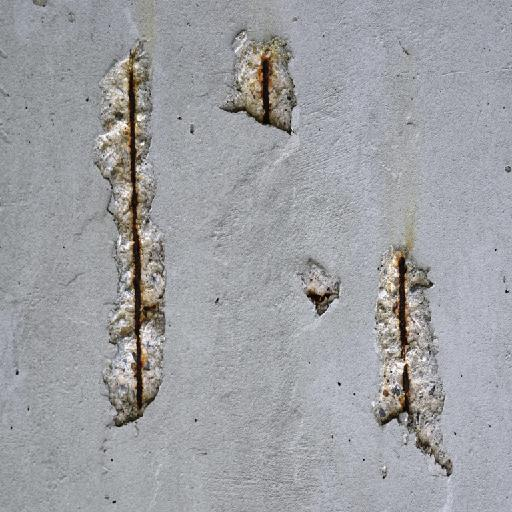exposed_rebar: (129, 52, 141, 410), (377, 363, 409, 424), (399, 258, 406, 359), (262, 58, 270, 124), (311, 294, 334, 306)
spalling: (96, 41, 165, 426), (374, 247, 452, 474), (223, 31, 296, 130), (300, 259, 340, 314)
